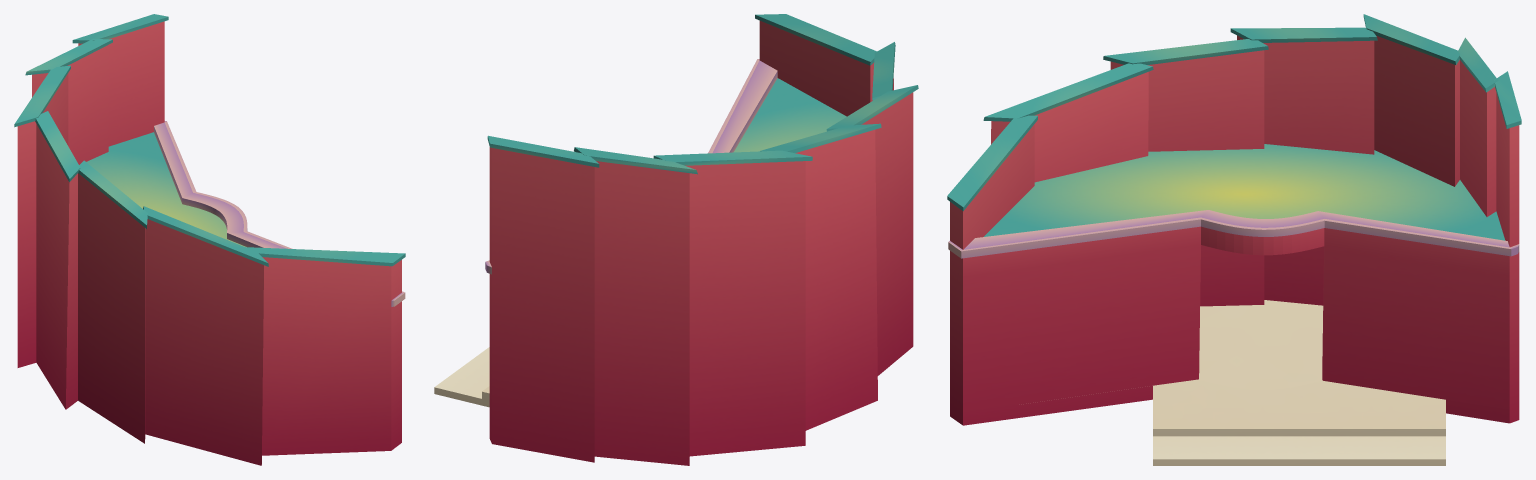
File: SM_LagoonTheatre.fbx
3 renders of one model, left to right at view 1: azimuth 30°, elevation 25°; view 2: azimuth 150°, elevation 25°; view 3: azimuth 270°, elevation 25°, orthographic. The views are drawn at different scales.
Visible parts, largest first — view 1: SM_LagoonTheatre; view 2: SM_LagoonTheatre; view 3: SM_LagoonTheatre.
Boxes of the visible parts, left/top/right/bottom form: SM_LagoonTheatre: left=14, top=14, right=405, bottom=465; SM_LagoonTheatre: left=434, top=14, right=918, bottom=465; SM_LagoonTheatre: left=947, top=14, right=1521, bottom=465.
Size of the model in its own units: 9.53 by 14.02 by 8.08.
